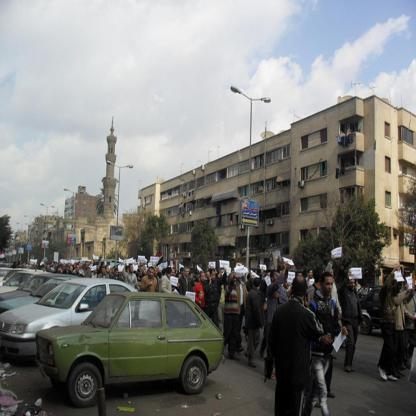face: (323, 278, 334, 296), (349, 280, 356, 291), (273, 273, 279, 283), (285, 279, 290, 290), (231, 276, 237, 285), (212, 271, 217, 281), (388, 278, 393, 287), (330, 270, 335, 278), (150, 270, 154, 279), (154, 269, 158, 277), (202, 273, 206, 281), (237, 274, 241, 282), (219, 270, 223, 277), (250, 275, 254, 282), (310, 271, 314, 278), (102, 269, 106, 275), (131, 265, 134, 273), (186, 269, 189, 277), (196, 273, 200, 279), (207, 273, 211, 279), (262, 271, 266, 277), (77, 266, 80, 272), (86, 263, 89, 269), (107, 267, 110, 273), (116, 271, 119, 277), (172, 271, 175, 277), (140, 270, 143, 276), (80, 264, 83, 269), (103, 264, 106, 269), (128, 269, 131, 274), (141, 262, 144, 267), (144, 269, 147, 274), (182, 270, 185, 275), (281, 272, 284, 277), (154, 264, 157, 269), (67, 266, 70, 270), (113, 270, 115, 275), (189, 274, 191, 279), (29, 261, 31, 265), (71, 268, 73, 272), (98, 266, 100, 270), (174, 262, 176, 266), (191, 275, 193, 279), (48, 267, 50, 270), (51, 264, 53, 267), (75, 265, 77, 268), (111, 271, 113, 274)
